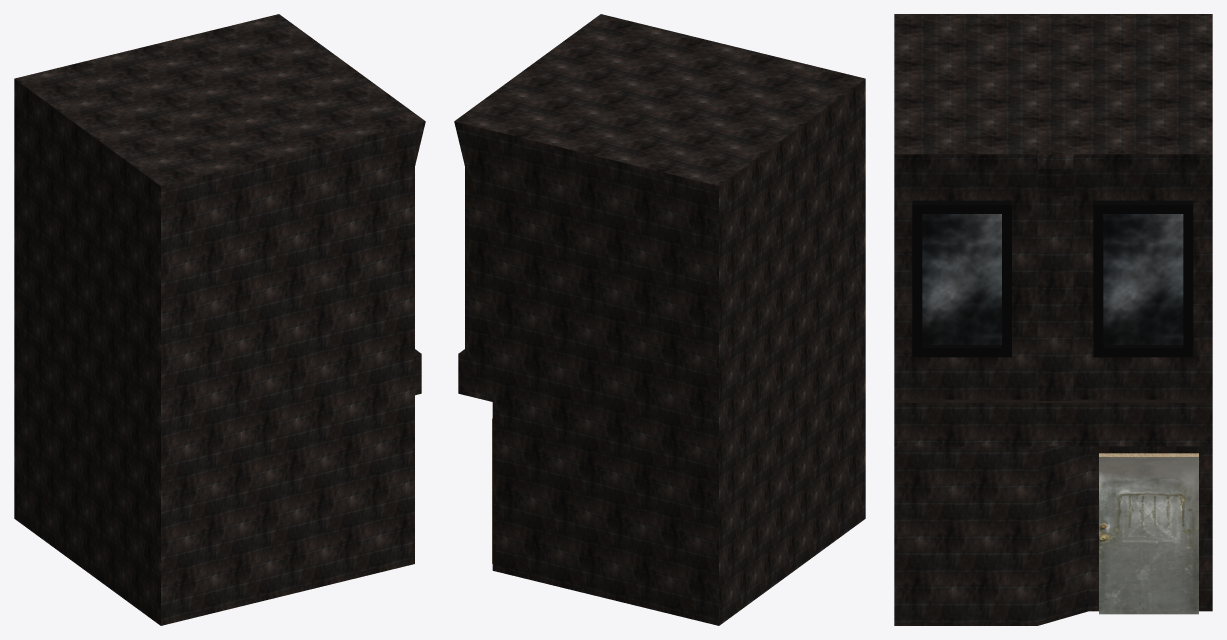
Rendered from Building1Burned.fbx.
The picture shows the model from 3 angles, left to right: view 1: azimuth 30°, elevation 25°; view 2: azimuth 150°, elevation 25°; view 3: azimuth 270°, elevation 25°; orthographic projection. The views are drawn at different scales.
Visible parts, largest first — view 1: pCube1; view 2: pCube1; view 3: pCube1, pCube2, pCube4, pCube3.
Boxes of the visible parts, x1,y1,x2,y2 form: pCube1: (14, 14, 425, 625); pCube1: (454, 14, 865, 625); pCube1: (894, 14, 1212, 625); pCube2: (1099, 453, 1198, 614); pCube4: (1093, 200, 1193, 357); pCube3: (912, 200, 1011, 357).
Size of the model in its own units: 3.32 by 5.27 by 3.19.
